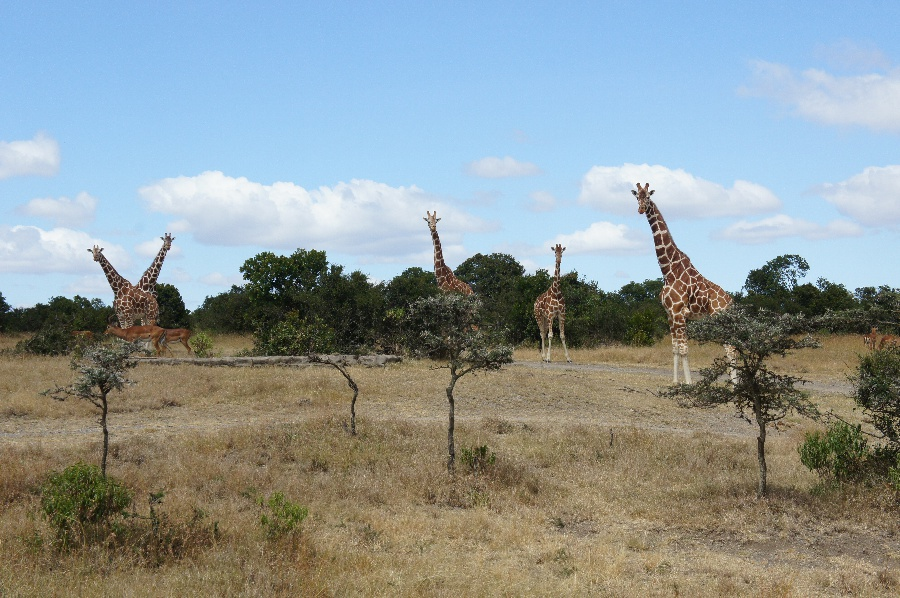giraffe: (625, 179, 743, 390), (82, 228, 177, 326), (420, 208, 478, 300), (533, 243, 567, 366)
